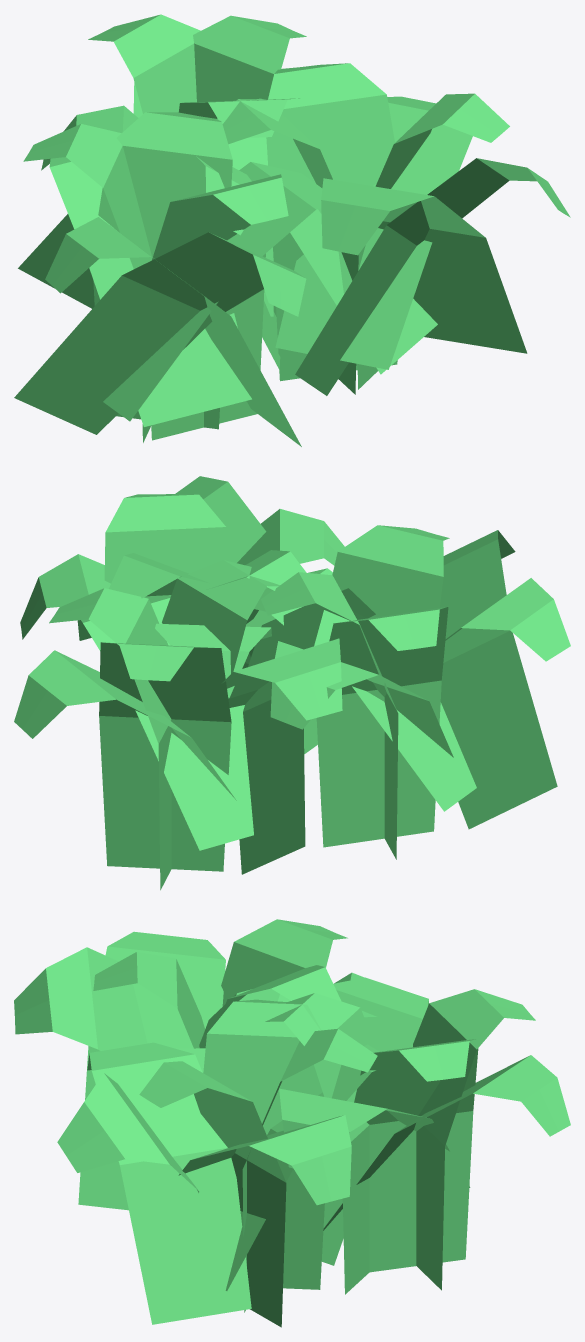
Rendered from grass.fbx.
3 renders of one model, top to bottom at view 1: azimuth 30°, elevation 25°; view 2: azimuth 150°, elevation 25°; view 3: azimuth 270°, elevation 25°, orthographic. The views are drawn at different scales.
Visible parts, largest first — view 1: Plane.002; view 2: Plane.002; view 3: Plane.002.
Part boxes in pixels (x1,y1,x2,y2): Plane.002: (14, 14, 570, 446); Plane.002: (14, 476, 570, 890); Plane.002: (14, 919, 570, 1327).
Size of the model in its own units: 953 by 483 by 967.
